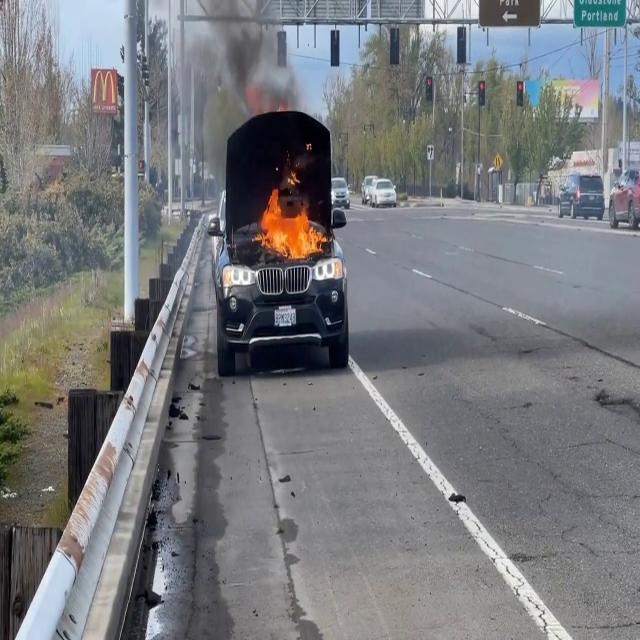Fire: (253, 179, 327, 263)
Smoke: (172, 3, 304, 117)
